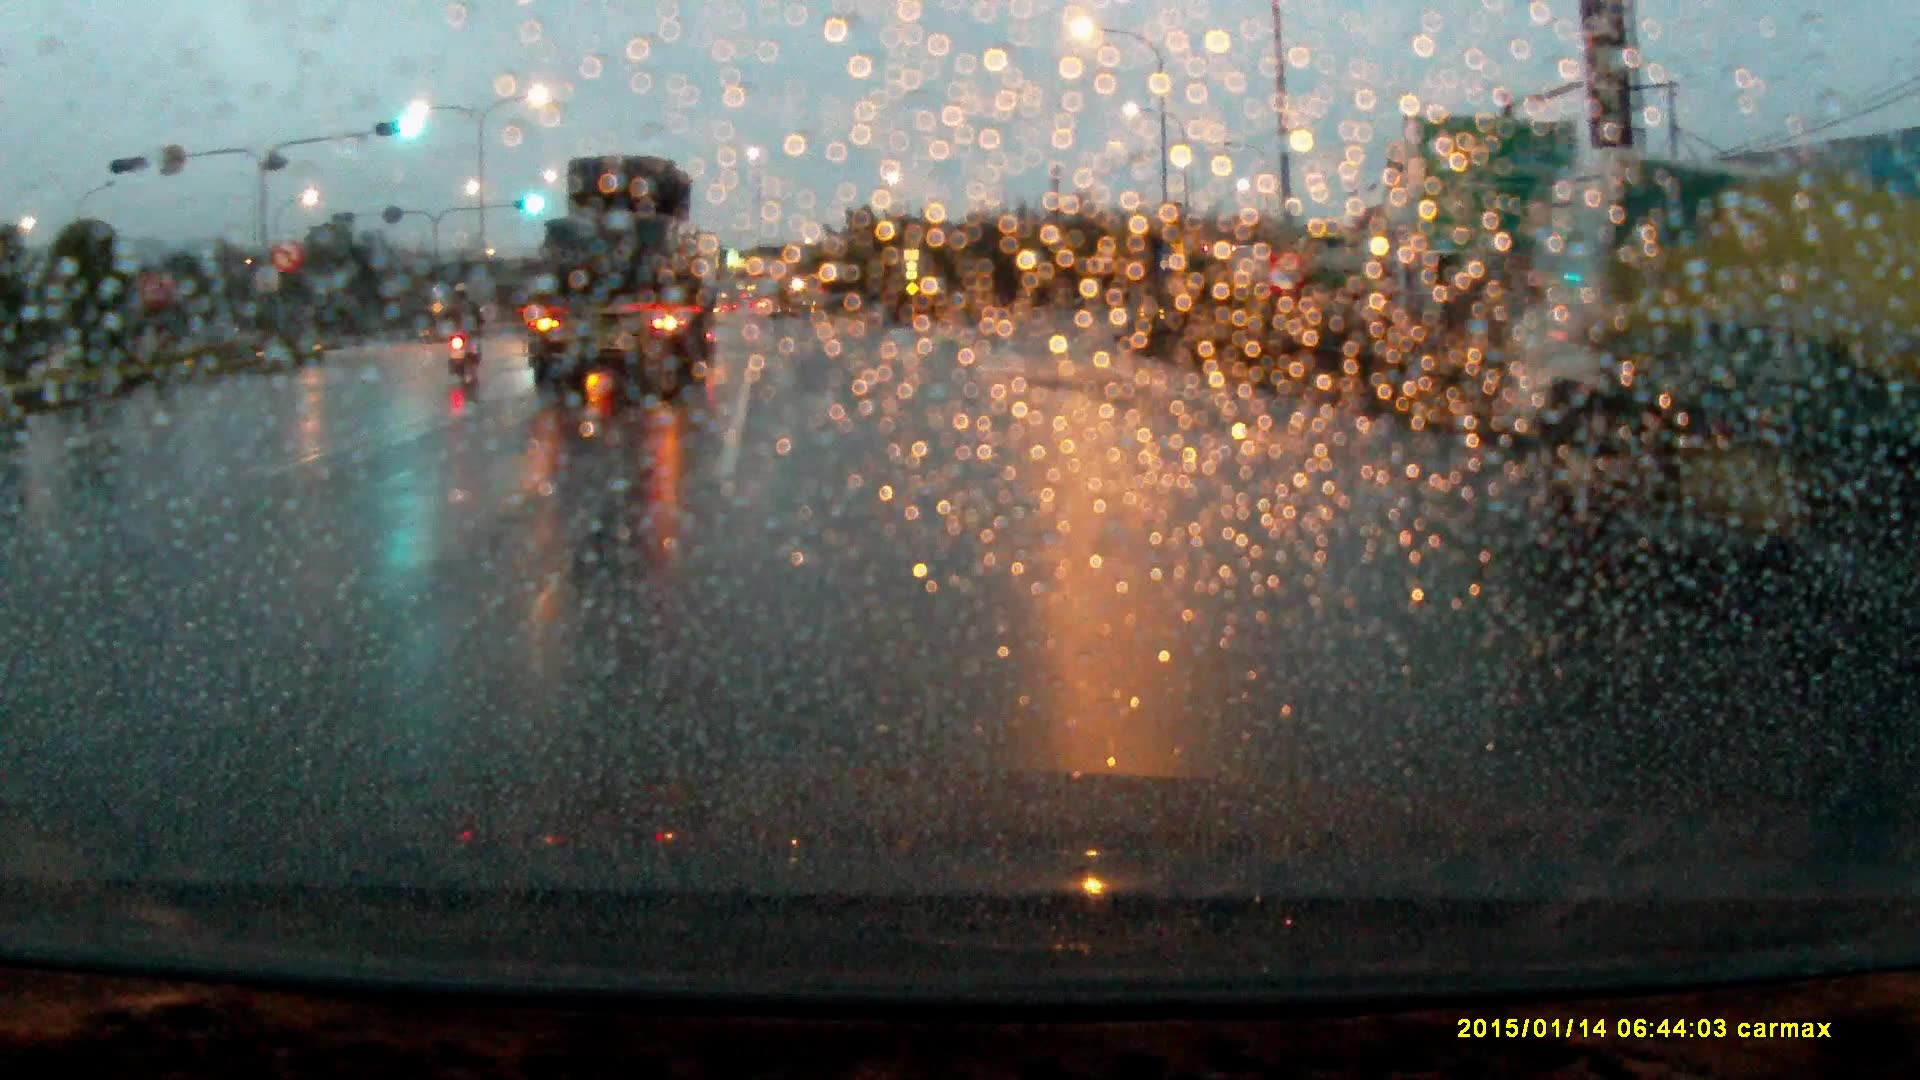rider: (434, 279, 485, 388)
vehicle: (1510, 129, 1920, 574), (521, 153, 719, 407)
